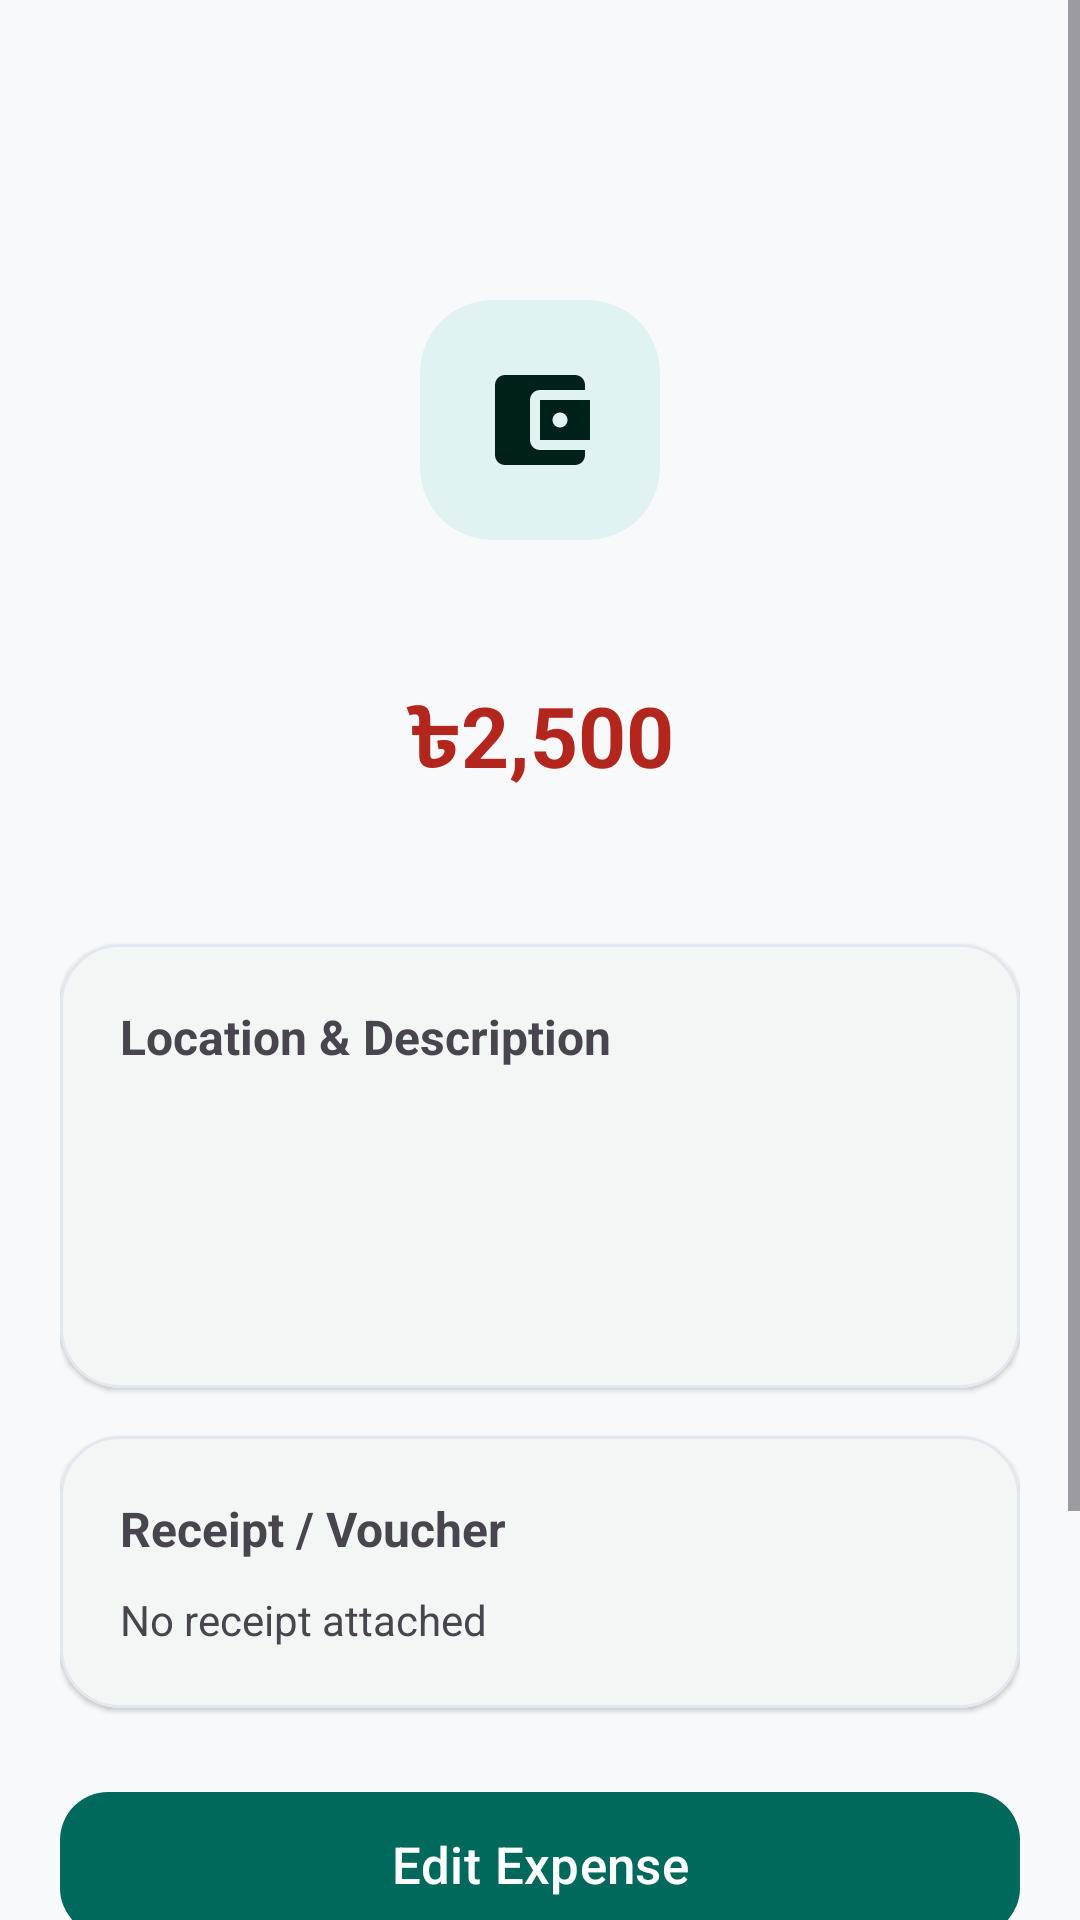

Screen size 1080w x 1920h. Icon name, then its box in pixels as (x1, y1, x2, y2):
expense: (495, 375, 590, 465)
